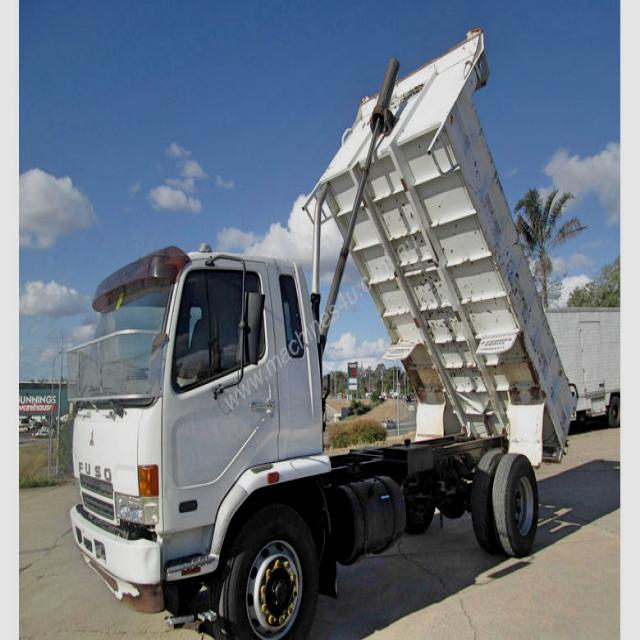truck: (69, 29, 581, 635)
